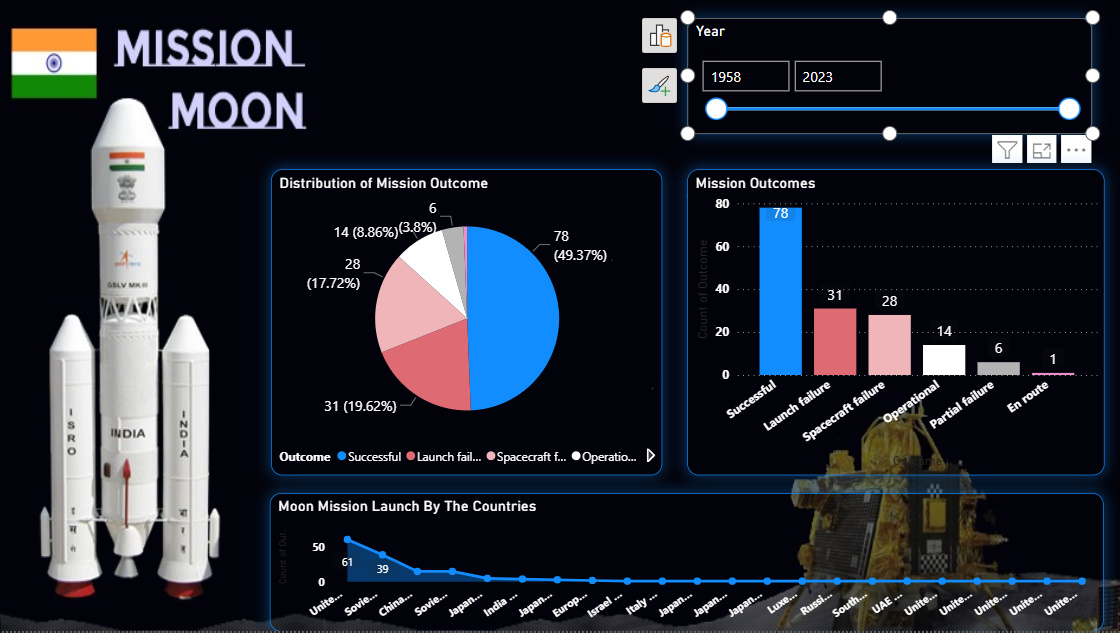

The page's visual inventory and layout, read from the dashboard file:
{"tool":"powerbi","page":{"name":"DB1","canvas":[1280,720],"ordinal":0},"visuals":[{"type":"slicer","title":"Year","fields":{"Values":["Data set Part 1 - Moonlanding.Launch Date.Variation.Date Hierarchy.Year"]},"box":[785.8,22.7,460.4,132.1],"z":0},{"type":"columnChart","title":"Mission Outcomes","fields":{"Category":["Data set Part 1 - Moonlanding.Outcome"],"Y":["CountNonNull(Data set Part 1 - Moonlanding.Outcome)"]},"box":[785.8,194.7,474.6,348.1],"z":1000},{"type":"pieChart","title":"Distribution of Mission Outcome","fields":{"Category":["Data set Part 1 - Moonlanding.Outcome"],"Y":["CountNonNull(Data set Part 1 - Moonlanding.Outcome)"]},"box":[312.6,194.7,444.8,348.1],"z":2000},{"type":"stackedAreaChart","title":"Moon Mission Launch By The Countries","fields":{"Category":["Data set Part 1 - Moonlanding.Operator"],"Y":["CountNonNull(Data set Part 1 - Moonlanding.Outcome)"]},"box":[311.2,562.7,947.8,157.7],"z":3000}]}

Visuals, with their boxes in screenshot pixels (x1, y1, x2, y2), scaled from the page's 1280x720 canvas onto the 1120x633 screenshot:
"Year" slicer: l=688, t=20, r=1090, b=136
"Mission Outcomes" columnChart: l=688, t=171, r=1103, b=477
"Distribution of Mission Outcome" pieChart: l=274, t=171, r=663, b=477
"Moon Mission Launch By The Countries" stackedAreaChart: l=272, t=495, r=1102, b=632
